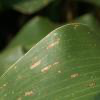Corn Gray leaf spot: (1, 24, 99, 99)
